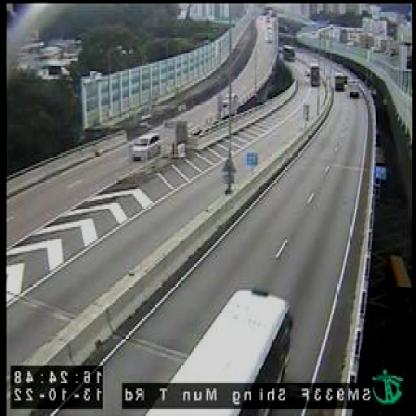Bus: (140, 287, 295, 416), (308, 62, 322, 86), (283, 44, 295, 63)
Car: (131, 132, 162, 162), (347, 83, 358, 98)
Truck: (334, 72, 345, 90)
